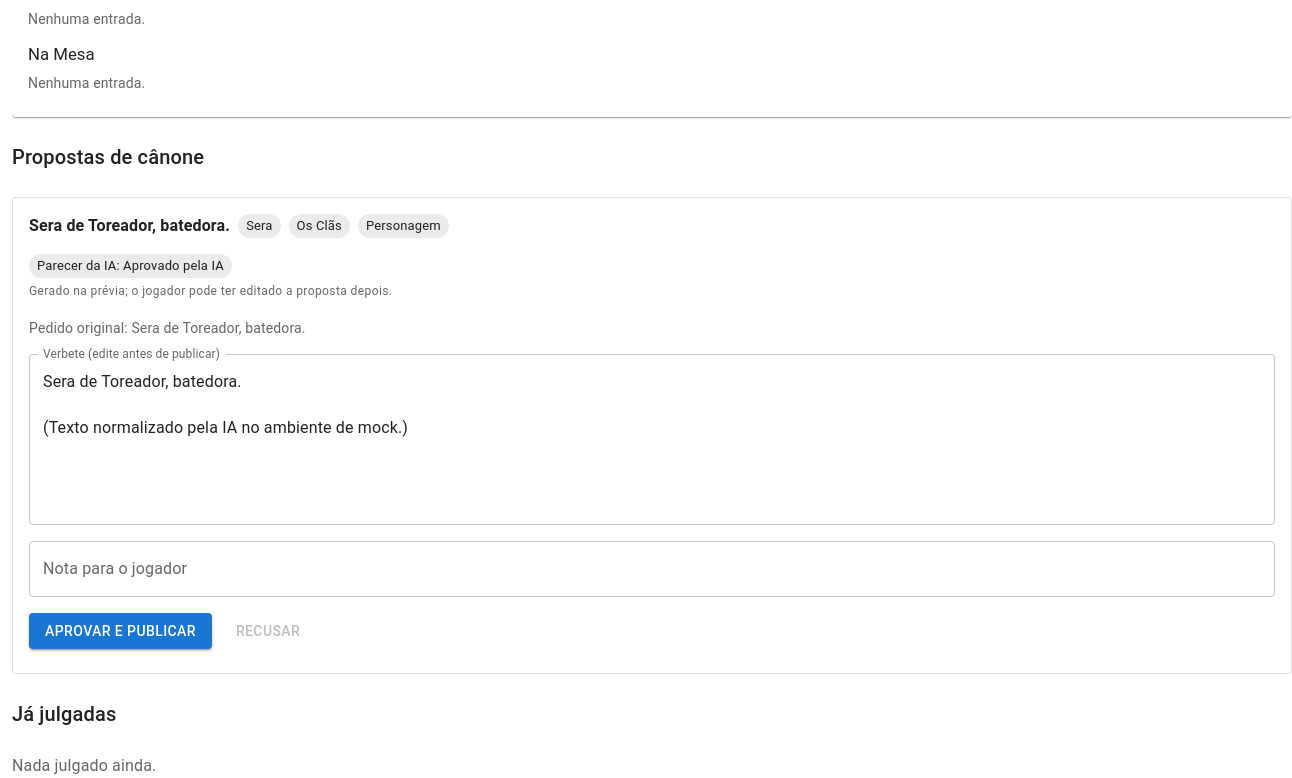
Test: AdminCanonTab › approves the submission and removes it from the pending list
The image size is (1292, 778).
(page scrolled)
Click the button "Aprovar e publicar" at (120, 631), box [29,613,212,649]
(page scrolled)
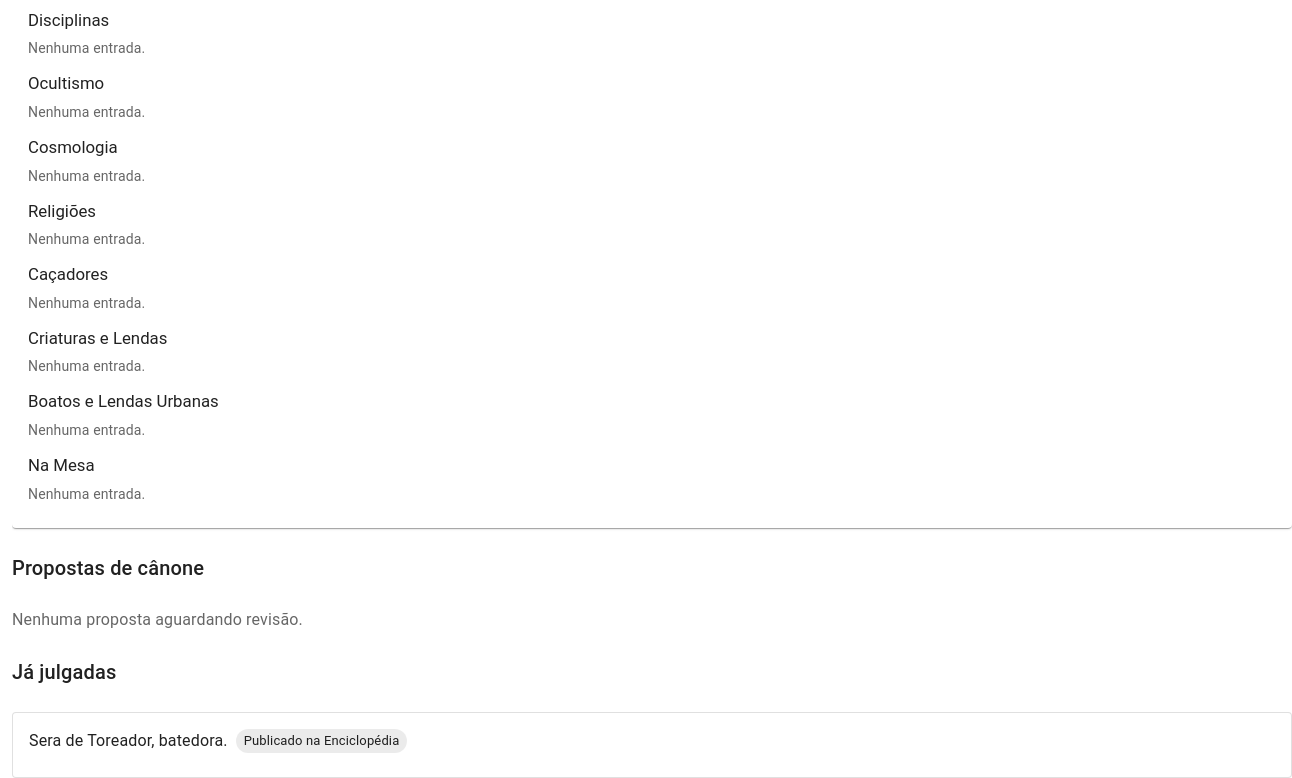
Now the button "Aprovar e publicar" is gone
Now the text "Publicado na Enciclopédia" is shown, box [236,731,407,750]
